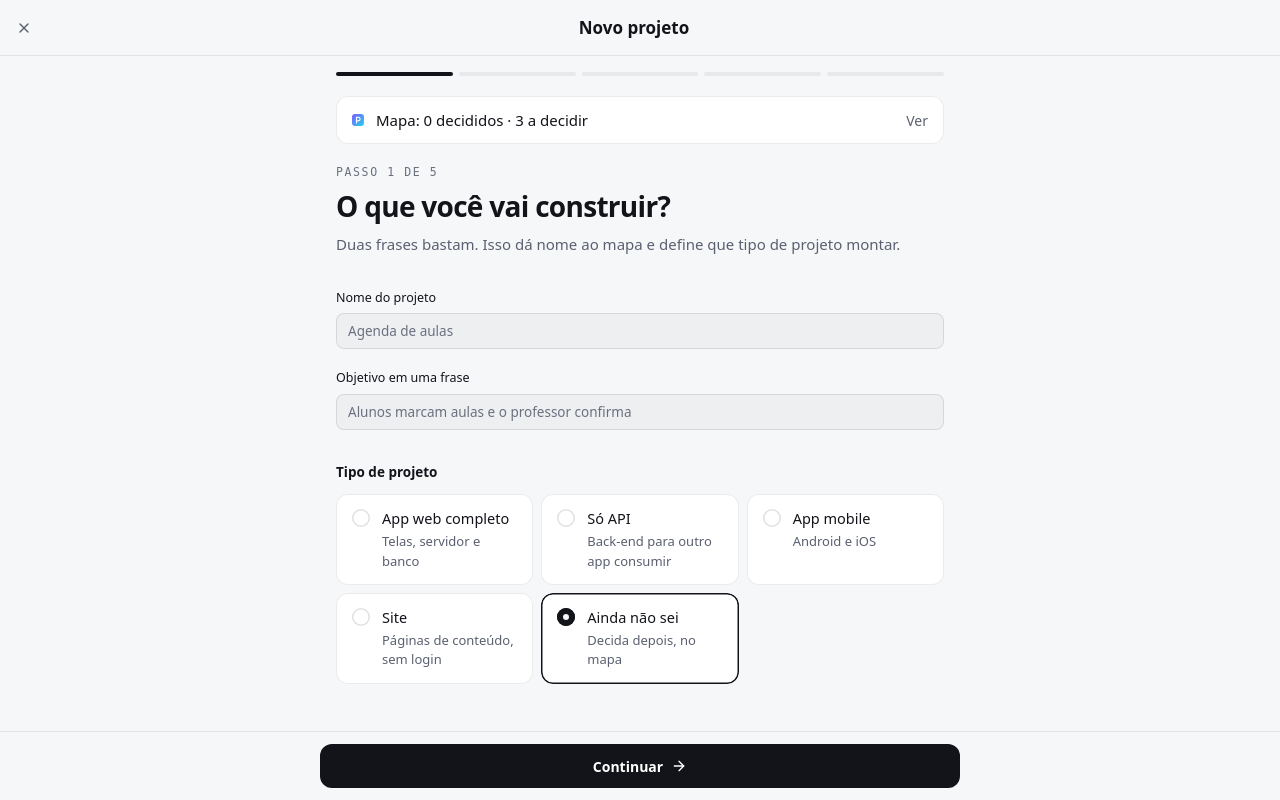
Test: guided start (RN 13, 15) › shows one step per screen on the phone, with the preview in a sheet
This screenshot has width=1280, height=800.
Step 1. Click the button "Mapa: 0 decididos · 3 a decidir Ver" → (482, 120), box [336,96,944,144]
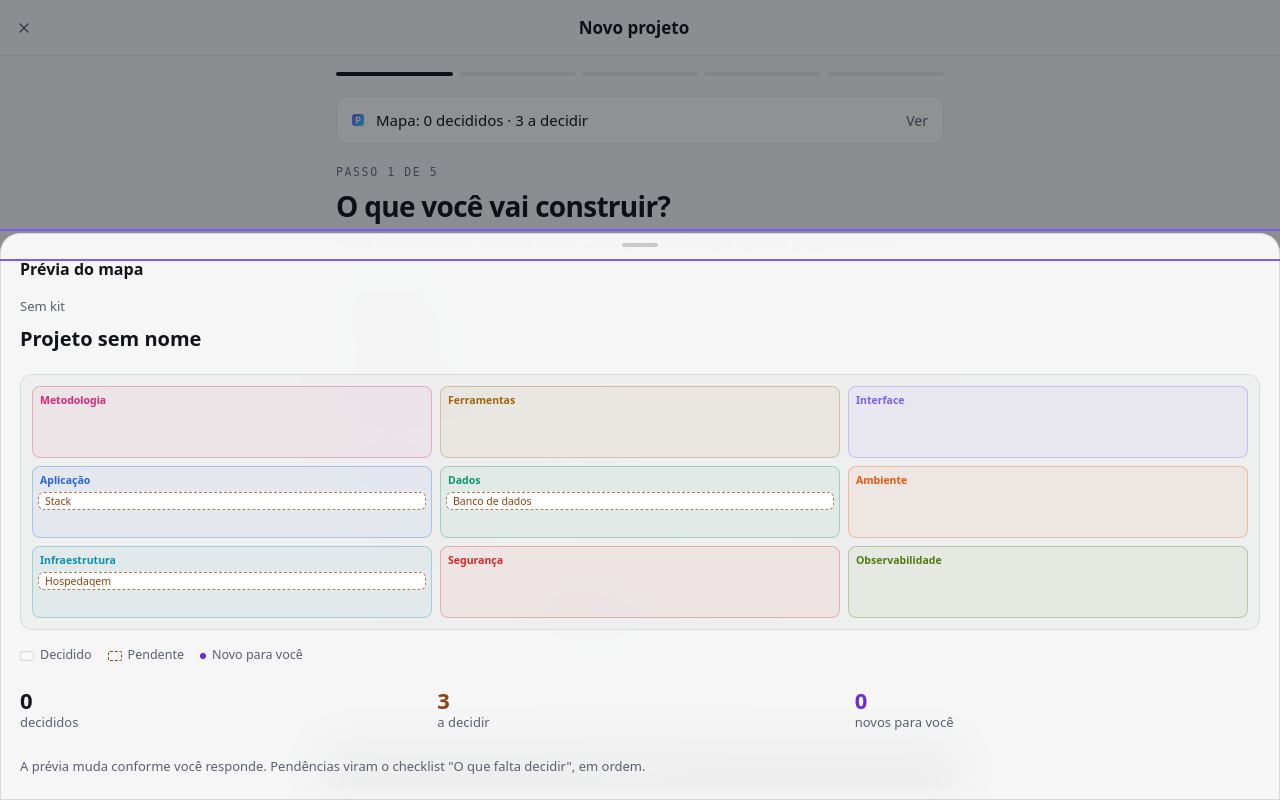
Now the dialog "Prévia do mapa" is shown
